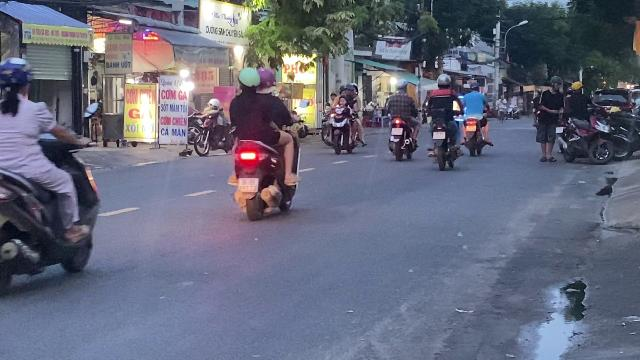helmet: (0, 56, 34, 98), (237, 66, 261, 92), (256, 66, 276, 92)
licenseplate: (238, 178, 258, 192)
motorcyclist: (0, 57, 100, 302), (224, 65, 302, 221)
